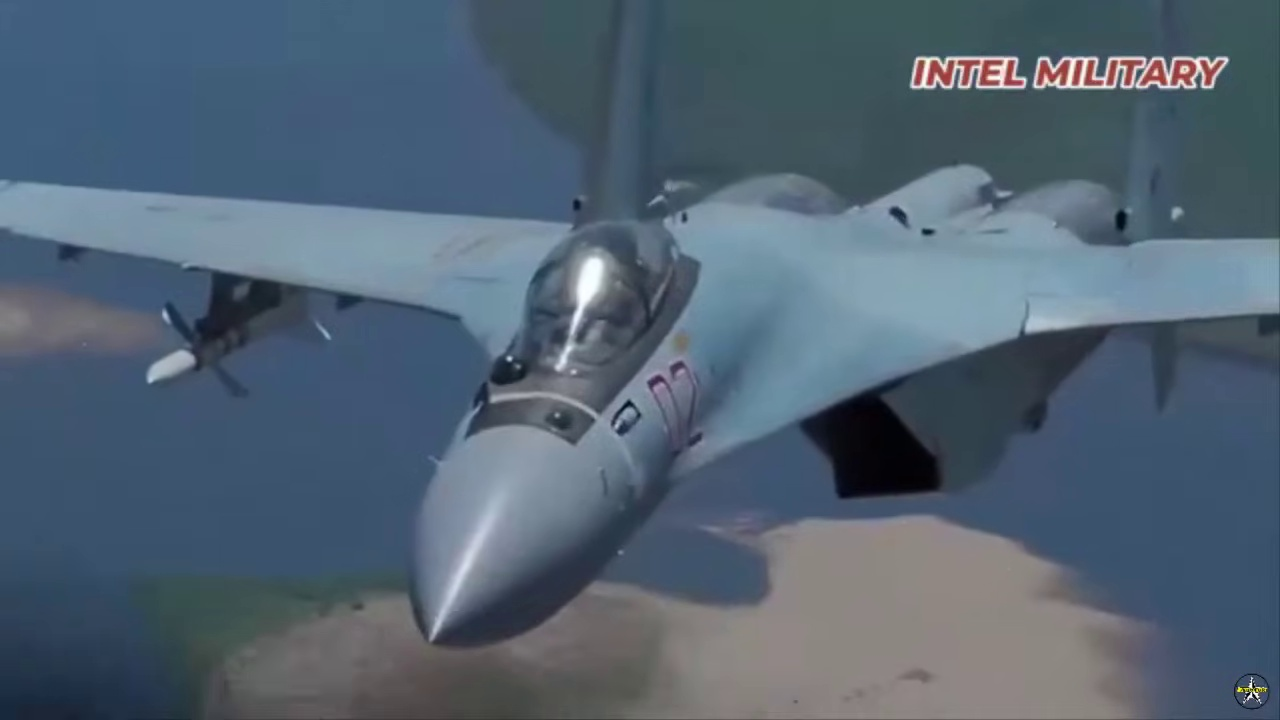Su35: (2, 3, 1279, 666)
